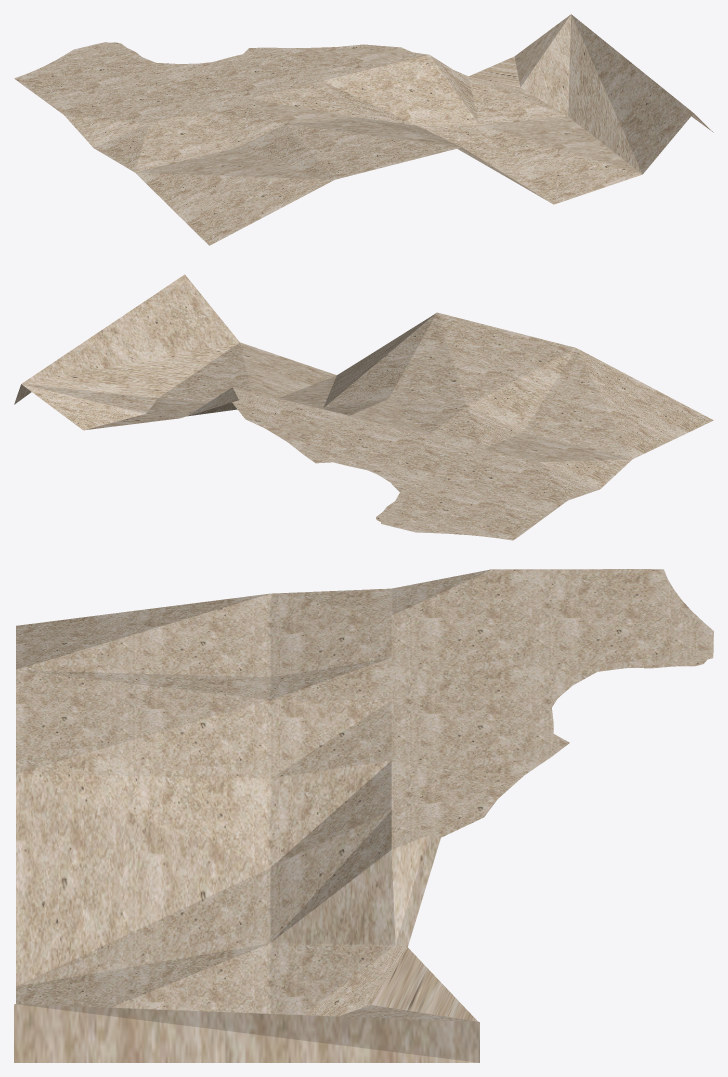
Rendered from sbseabed_sfn01.obj.
3 renders of one model, top to bottom at view 1: azimuth 30°, elevation 25°; view 2: azimuth 150°, elevation 25°; view 3: azimuth 270°, elevation 25°, orthographic. The views are drawn at different scales.
Visible parts, largest first — view 1: sbseabed_SFN01; view 2: sbseabed_SFN01; view 3: sbseabed_SFN01.
Part boxes in pixels (<box>): sbseabed_SFN01: <box>14,14,713,245</box>; sbseabed_SFN01: <box>14,274,713,540</box>; sbseabed_SFN01: <box>14,569,713,1062</box>.
Bounding box in the file's own units: 489 × 73.03 × 340.
